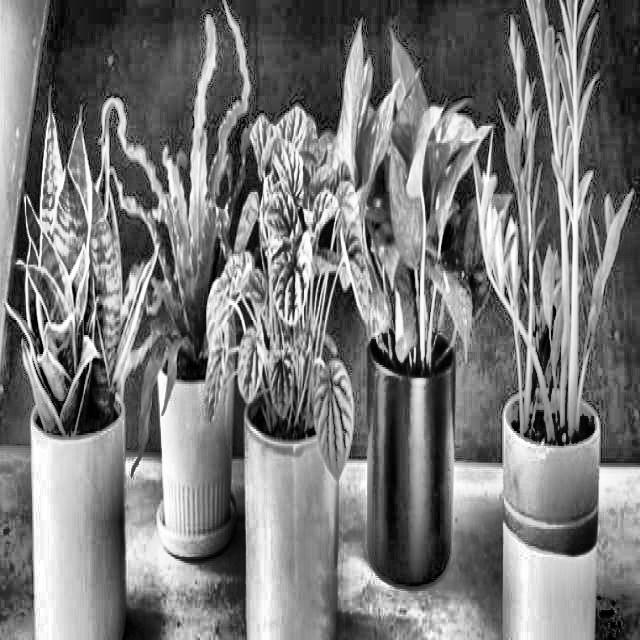plants: (479, 11, 627, 638), (354, 53, 471, 592), (22, 115, 131, 639), (243, 123, 347, 637), (136, 76, 234, 552)
